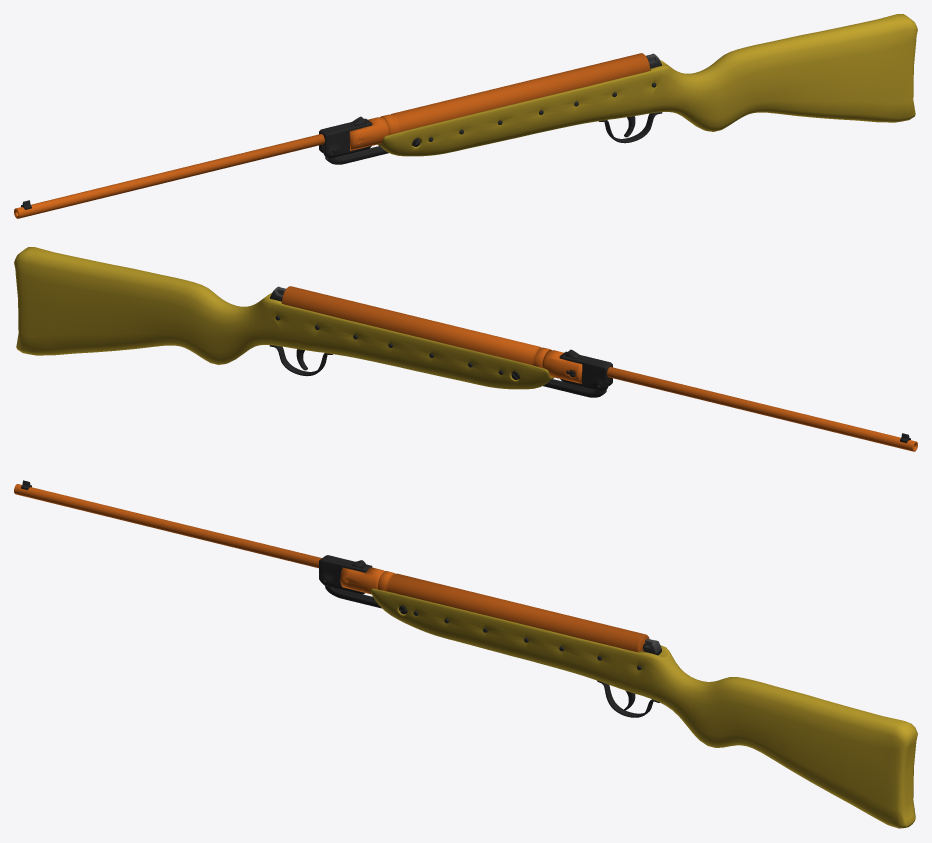
The model's file is SM_GunFix.fbx.
3 renders of one model, top to bottom at view 1: azimuth 30°, elevation 25°; view 2: azimuth 150°, elevation 25°; view 3: azimuth 330°, elevation 25°, orthographic.
Visible parts, largest first — view 1: Air_Gun.005; view 2: Air_Gun.005; view 3: Air_Gun.005.
Boxes of the visible parts, x1,y1,x2,y2 form: Air_Gun.005: [14, 14, 917, 218]; Air_Gun.005: [14, 247, 917, 451]; Air_Gun.005: [14, 480, 917, 828].
Size of the model in its own units: 142 by 20.22 by 4.39.
